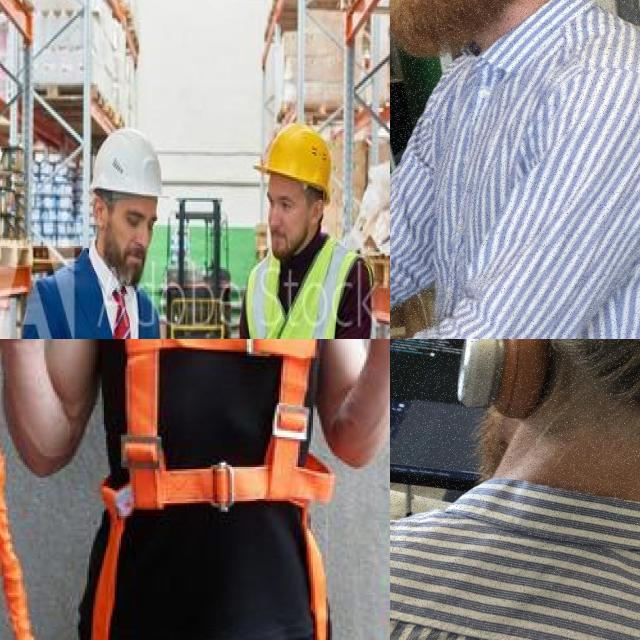Ear-protection: (407, 339, 640, 532)
Harness: (87, 339, 328, 640)
No_Ear-Protection: (88, 183, 112, 241), (307, 192, 330, 233)
No_Glasses: (116, 200, 165, 238), (260, 186, 299, 220)
